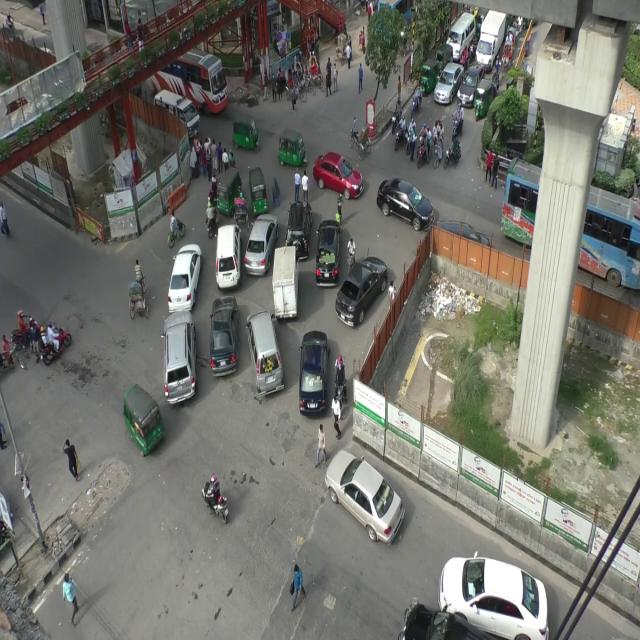cng: (117, 378, 166, 460), (274, 124, 310, 170), (213, 168, 241, 211), (230, 110, 258, 152), (471, 79, 496, 120), (248, 167, 269, 211), (418, 54, 436, 100), (434, 36, 453, 74)
rikshaw: (128, 257, 149, 321), (285, 66, 308, 106), (295, 60, 318, 94), (310, 51, 326, 94), (431, 120, 446, 164), (334, 32, 354, 64), (500, 42, 512, 76), (507, 28, 516, 61)
